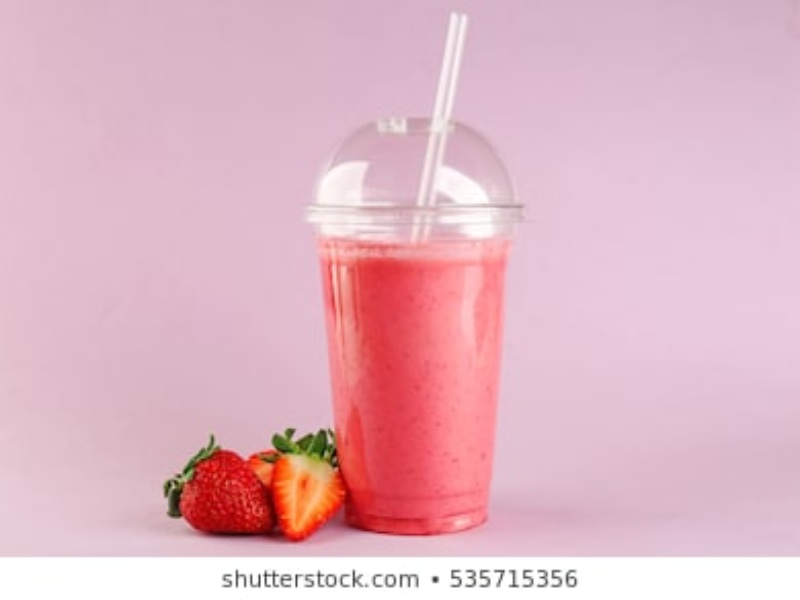plastic-cup: (305, 114, 517, 541)
straw: (409, 5, 472, 250)
